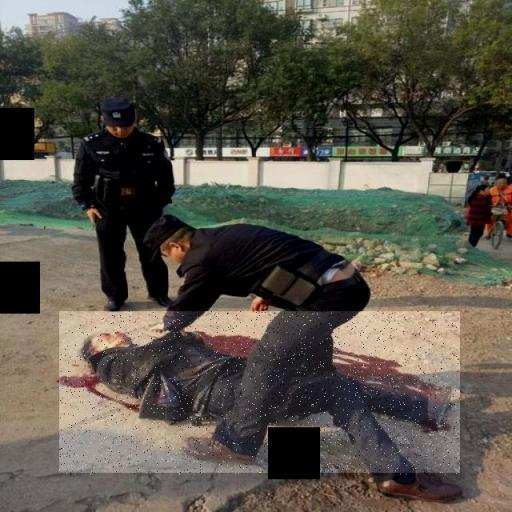Fall: (59, 312, 460, 475)
